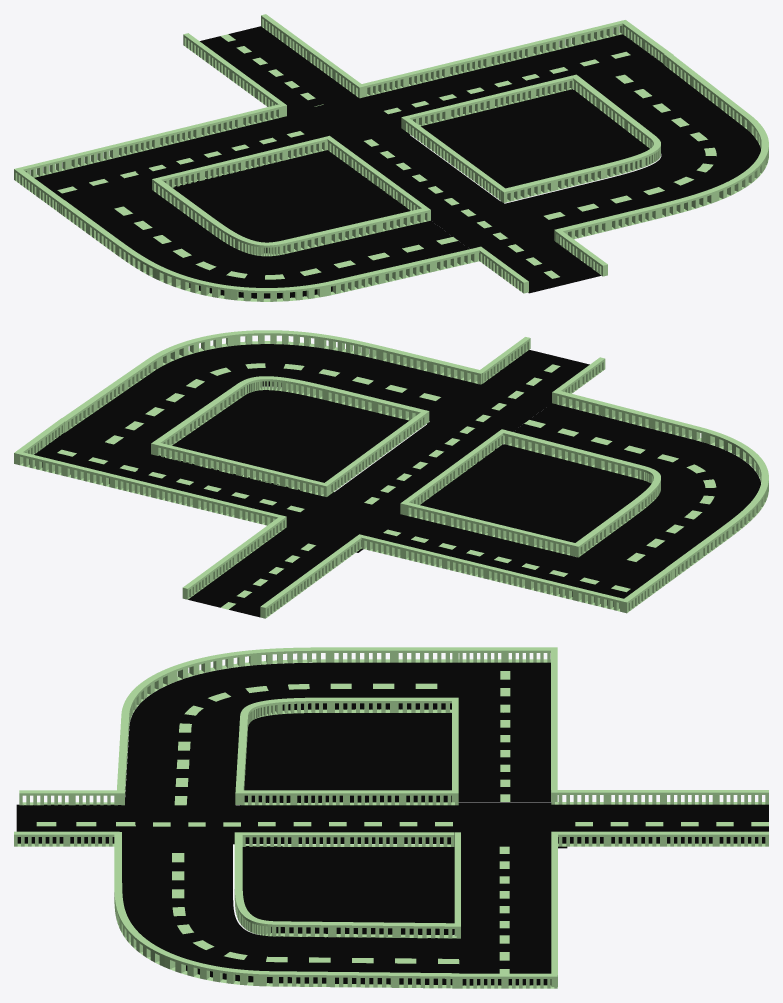
The model's file is Sci-fi_raceTrackArch.fbx.
3 views of the same model, one above another, from view 1: azimuth 30°, elevation 25°; view 2: azimuth 150°, elevation 25°; view 3: azimuth 270°, elevation 25° (orthographic). The views are drawn at different scales.
Visible parts, largest first — view 1: RightWall.008, RightWall.004, Plane.009, Plane.008, LeftWall.008, LeftWall.009, Plane.013, Center, Plane.012, Plane.010, Plane.011, Plane.001 (+21 smaller); view 2: RightWall.004, RightWall.008, Plane.008, Plane.009, LeftWall.009, LeftWall.008, Center, Plane.011, Plane.010, Plane, Plane.006, Plane.001 (+21 smaller); view 3: RightWall.008, RightWall.004, Plane.008, Plane.009, LeftWall.009, LeftWall.008, Plane.012, Center, Plane.003, Plane.002, Plane.004, Plane.005 (+15 smaller).
Boxes of the visible parts, <box> form: RightWall.008: <box>152,135,430,256</box>; RightWall.004: <box>401,74,660,202</box>; Plane.009: <box>504,65,760,239</box>; Plane.008: <box>76,190,469,298</box>; LeftWall.008: <box>59,200,484,301</box>; LeftWall.009: <box>554,53,768,242</box>; Plane.013: <box>530,34,663,83</box>; Center: <box>282,96,409,145</box>; Plane.012: <box>34,158,151,208</box>; Plane.010: <box>431,201,547,250</box>; Plane.011: <box>487,236,601,293</box>; Plane.001: <box>247,61,355,112</box>; RightWall.004: <box>151,376,429,496</box>; RightWall.008: <box>400,429,660,557</box>; Plane.008: <box>513,403,760,576</box>; Plane.009: <box>65,344,480,453</box>; LeftWall.009: <box>62,330,484,432</box>; LeftWall.008: <box>553,390,768,579</box>; Center: <box>284,492,405,552</box>; Plane.011: <box>475,350,589,406</box>; Plane.010: <box>427,389,546,438</box>; Plane: <box>188,565,296,617</box>; Plane.006: <box>331,459,439,511</box>; Plane.001: <box>236,529,344,579</box>; RightWall.008: <box>235,697,458,805</box>; RightWall.004: <box>234,832,460,938</box>; Plane.008: <box>125,662,458,805</box>; Plane.009: <box>122,844,459,985</box>; LeftWall.009: <box>114,832,459,988</box>; LeftWall.008: <box>116,647,458,804</box>; Plane.012: <box>458,662,550,712</box>; Center: <box>447,802,567,848</box>; Plane.003: <box>458,712,550,757</box>; Plane.002: <box>458,757,550,801</box>; Plane.004: <box>461,846,551,890</box>; Plane.005: <box>461,891,551,935</box>.
Bounding box in the file's own units: 7381 × 136 × 7150.
